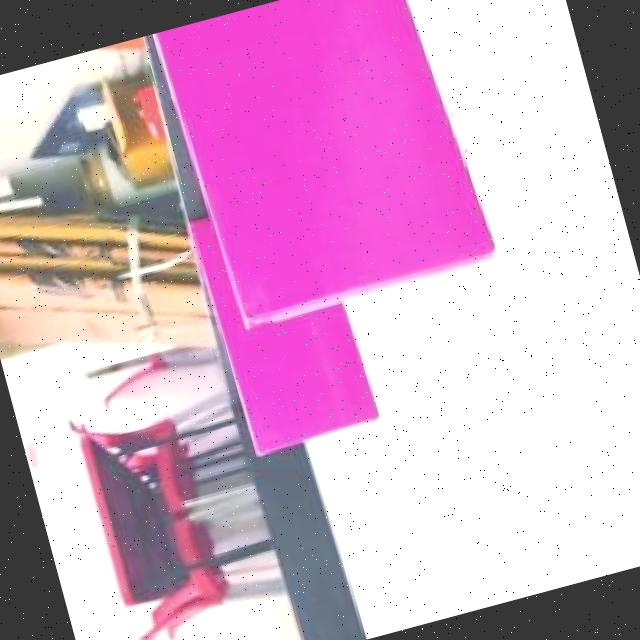xparking: (162, 0, 488, 327), (166, 0, 462, 324), (227, 308, 372, 454)
